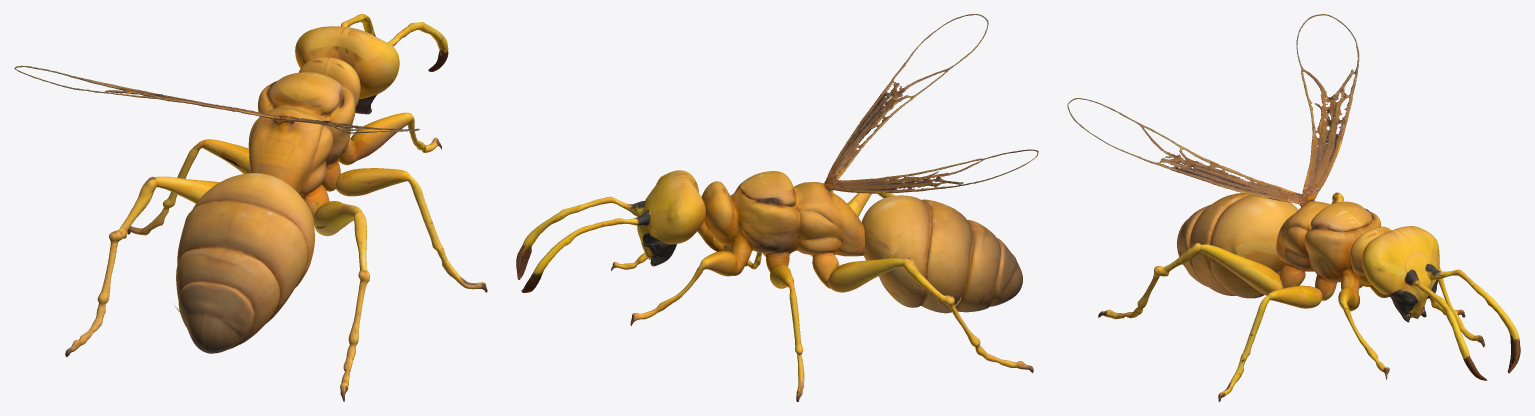
File: termites_3D.glb
3 renders of one model, left to right at view 1: azimuth 30°, elevation 25°; view 2: azimuth 150°, elevation 25°; view 3: azimuth 270°, elevation 25°, orthographic. The views are drawn at different scales.
Visible parts, largest first — view 1: Object_4, Object_5; view 2: Object_4, Object_5; view 3: Object_4, Object_5.
Part boxes in pixels (left/top/right/bottom): Object_4: left=14, top=14, right=487, bottom=401; Object_5: left=17, top=29, right=403, bottom=326; Object_4: left=516, top=14, right=1034, bottom=372; Object_5: left=642, top=87, right=1038, bottom=401; Object_4: left=1067, top=14, right=1520, bottom=401; Object_5: left=1168, top=14, right=1465, bottom=317.
Bounding box in the file's own units: 1.84 × 0.9401 × 1.69.
1 material, 1 textured.
